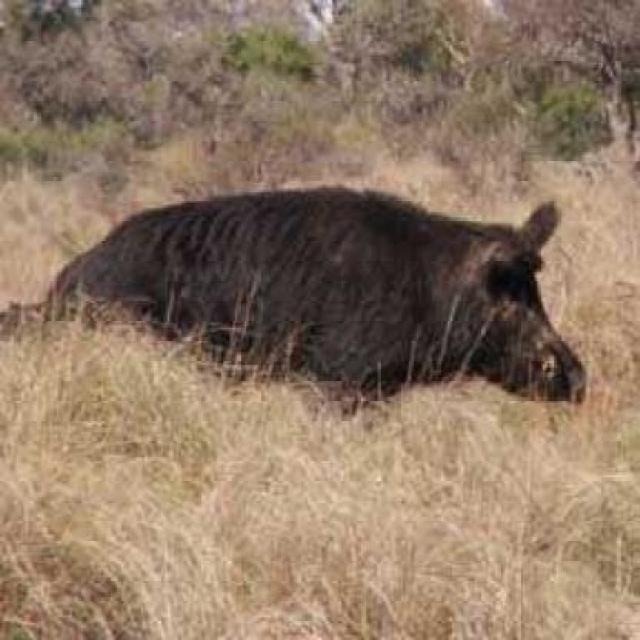pig: (61, 144, 604, 438)
